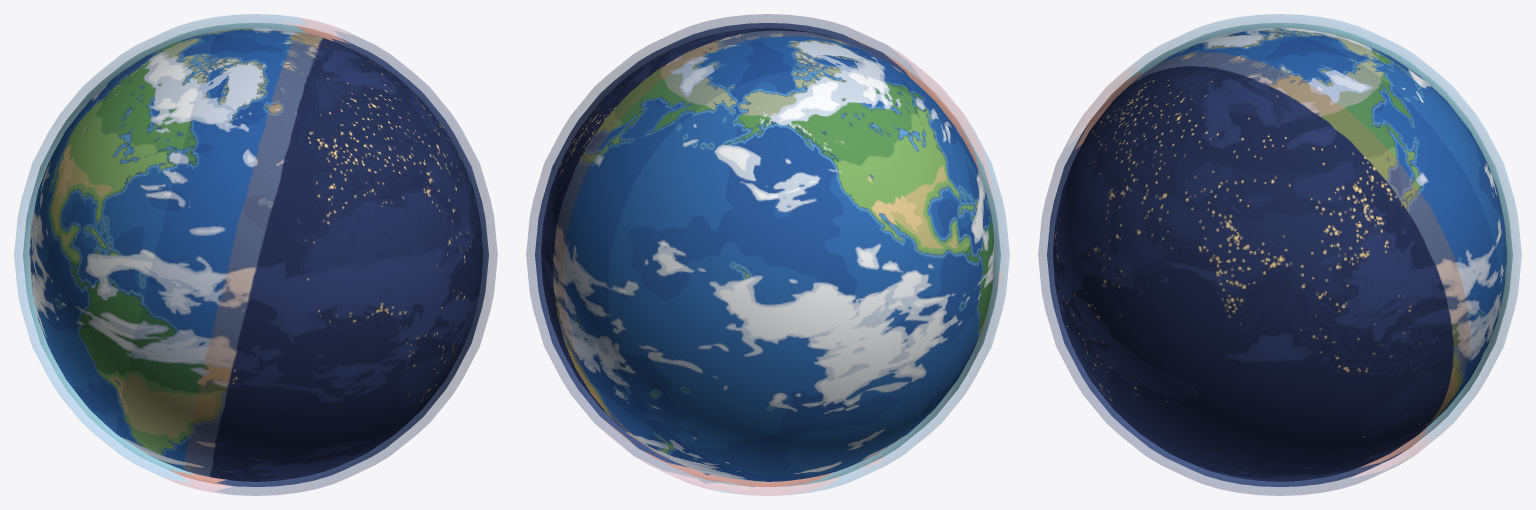
Rendered from earth.glb.
3 renders of one model, left to right at view 1: azimuth 30°, elevation 25°; view 2: azimuth 150°, elevation 25°; view 3: azimuth 270°, elevation 25°, orthographic.
Parts seen in each view (by area): view 1: earth_surface, earth_atmo_out, earth_atmo_in; view 2: earth_surface, earth_atmo_out, earth_atmo_in; view 3: earth_surface, earth_atmo_out, earth_atmo_in.
Part boxes in pixels (bbox=[...]): earth_surface: bbox=[29, 28, 482, 481]; earth_atmo_out: bbox=[14, 14, 497, 495]; earth_atmo_in: bbox=[23, 23, 488, 486]; earth_surface: bbox=[541, 28, 994, 481]; earth_atmo_out: bbox=[526, 14, 1009, 495]; earth_atmo_in: bbox=[535, 23, 1000, 486]; earth_surface: bbox=[1053, 28, 1506, 481]; earth_atmo_out: bbox=[1038, 14, 1521, 495]; earth_atmo_in: bbox=[1047, 23, 1512, 486].
Size of the model in its own units: 213 by 213 by 213.
Materials: 3 (1 with a texture image).
